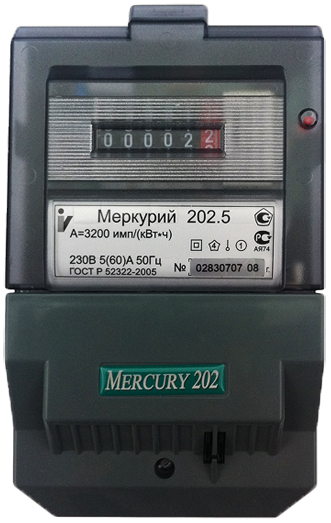counter: (4, 36, 328, 522)
counter_screen: (88, 119, 226, 157)
